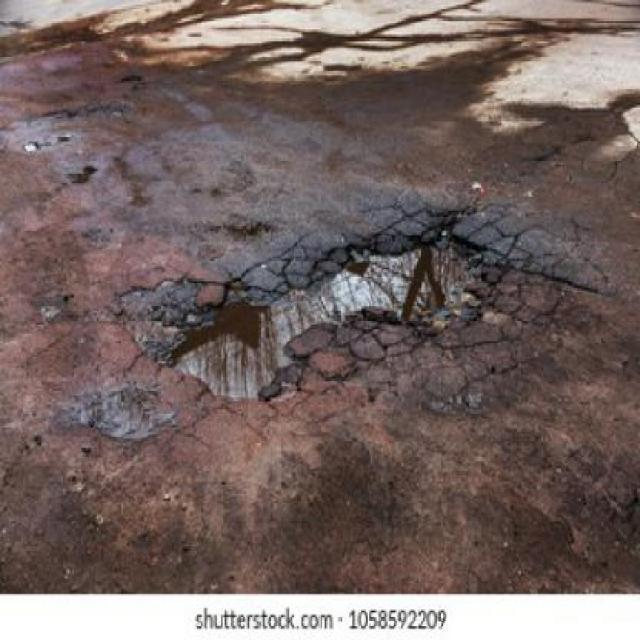Pothole: (108, 201, 529, 412)
